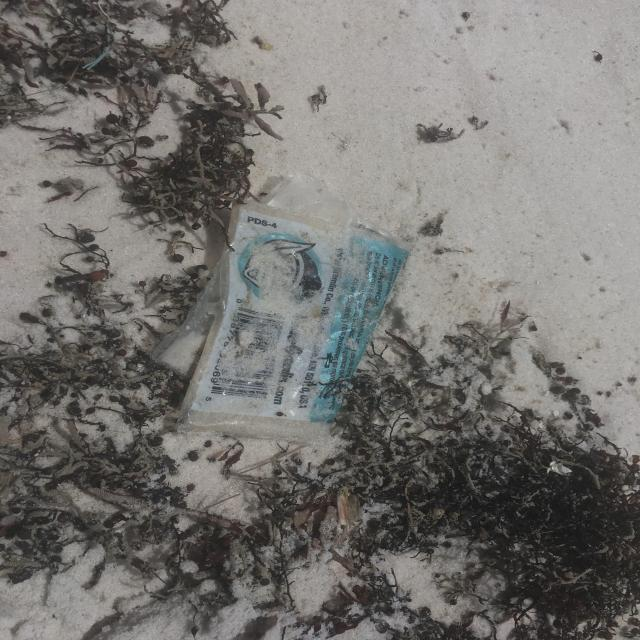litter: (154, 173, 423, 441)
